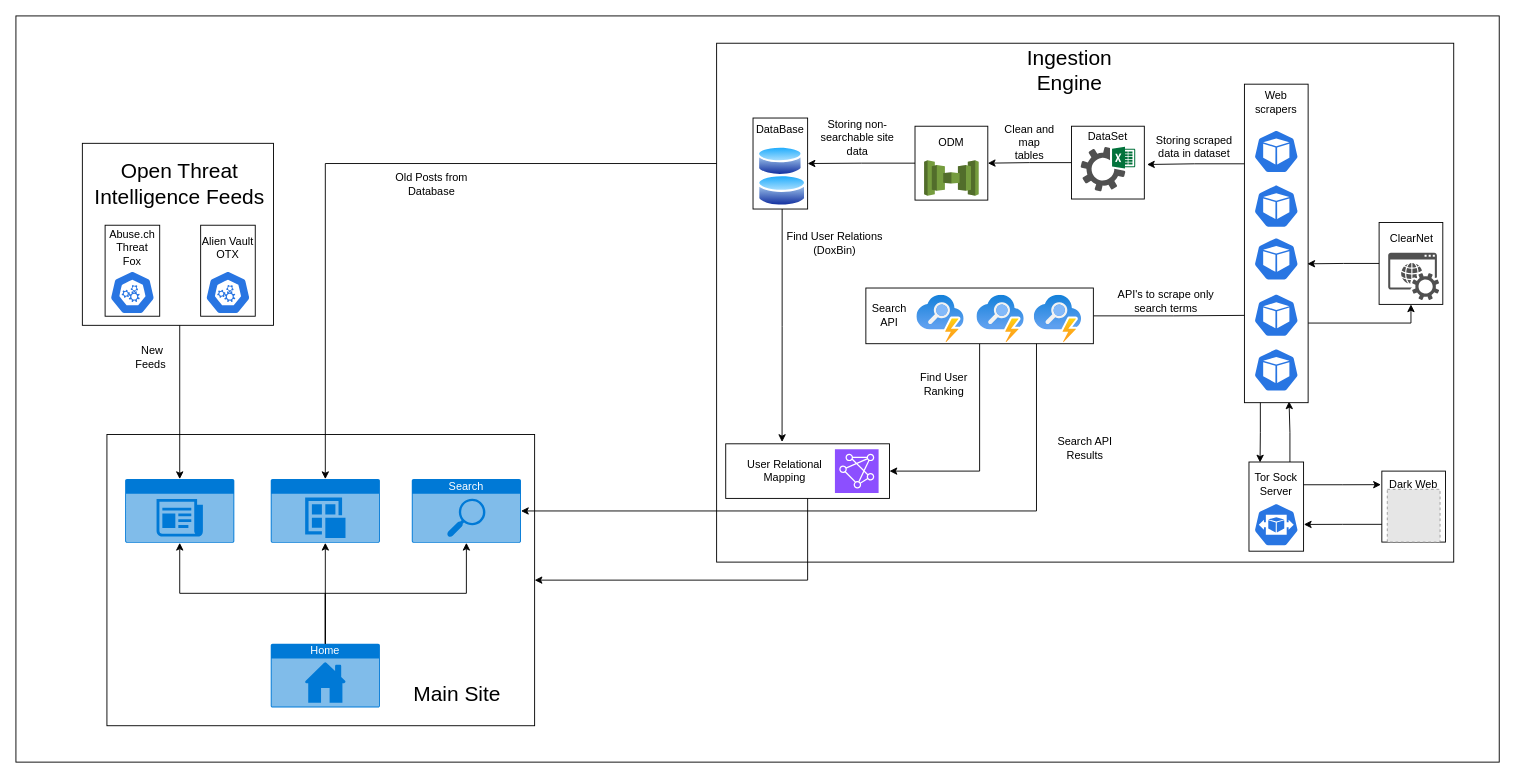
Image size: 1515x778. Some labels were removed from this diagram. Grey dashed boxes stand in for pictures. The centre of each missing label's shape, as x and y in pixels:
News: the point at 179,510
Post: the point at 324,510
